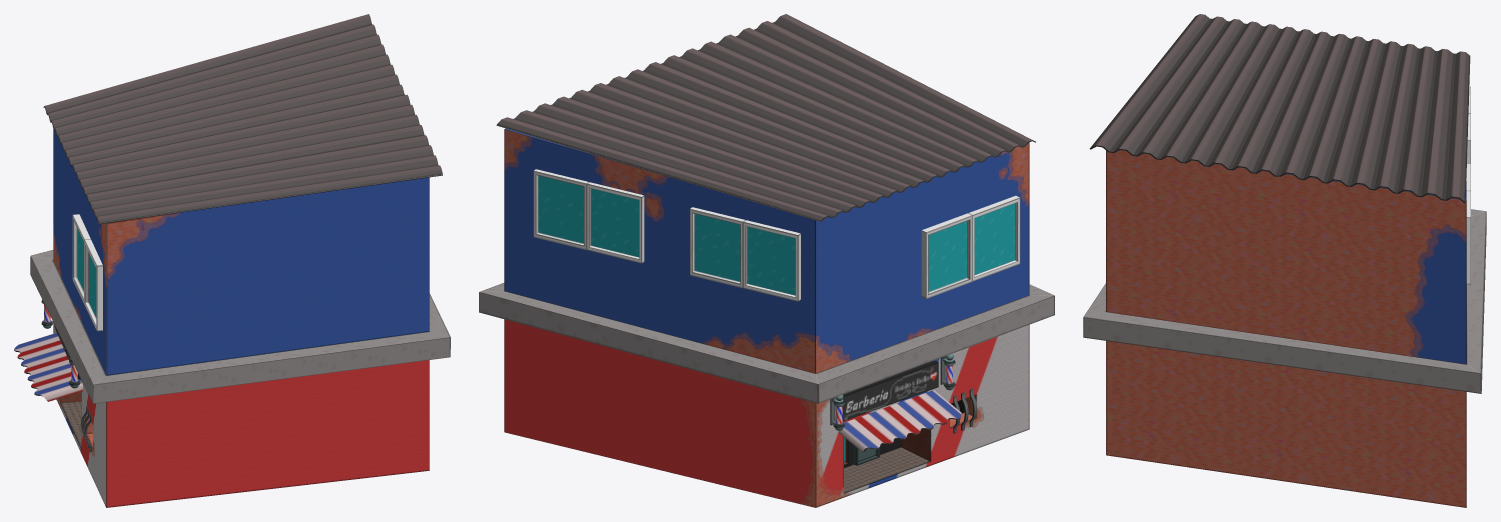
File: Building_Peluqueria.fbx
The picture shows the model from 3 angles, left to right: view 1: azimuth 30°, elevation 25°; view 2: azimuth 150°, elevation 25°; view 3: azimuth 270°, elevation 25°; orthographic projection. The views are drawn at different scales.
Parts seen in each view (by area): view 1: Cube.001; view 2: Cube.001; view 3: Cube.001.
Part boxes in pixels (x1,y1,x2,y2): Cube.001: (14,14,450,507); Cube.001: (479,14,1054,507); Cube.001: (1083,14,1486,507).
Bounding box in the file's own units: 2606 × 1795 × 2094.
